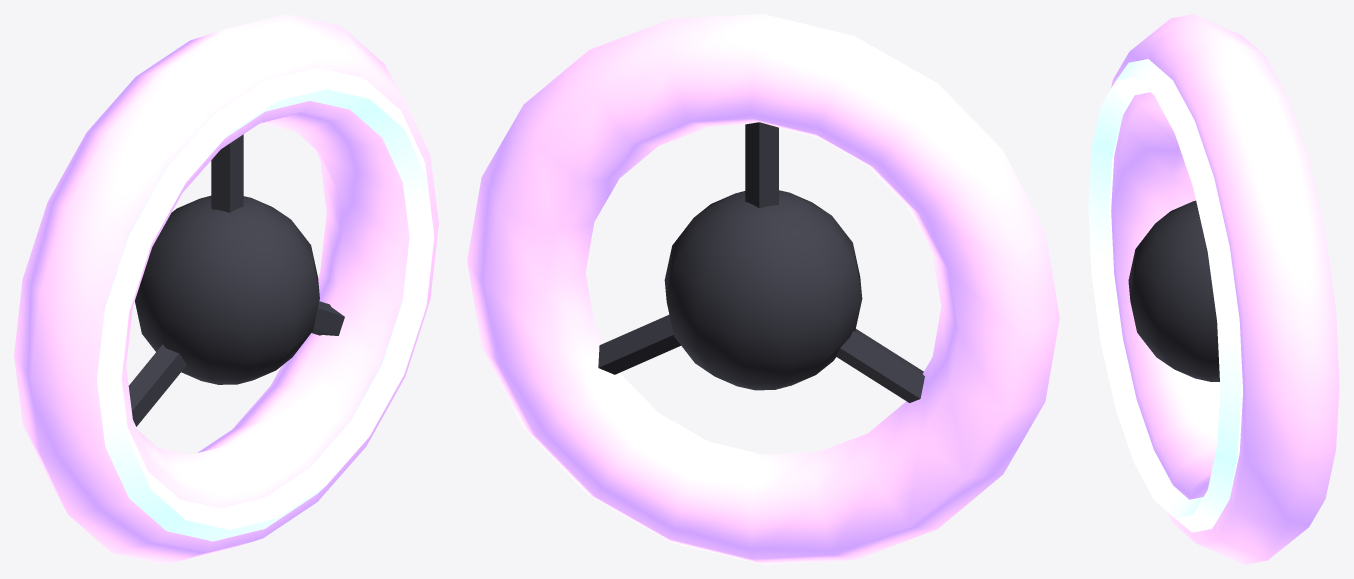
The model's file is drone_2.glb.
3 views of the same model, side by side, from view 1: azimuth 30°, elevation 25°; view 2: azimuth 150°, elevation 25°; view 3: azimuth 270°, elevation 25° (orthographic). The views are drawn at different scales.
Visible parts, largest first — view 1: drone_2; view 2: drone_2; view 3: drone_2.
Boxes of the visible parts, box(x1,y1,x2,y2) form: drone_2: box(14, 14, 438, 564); drone_2: box(467, 14, 1059, 564); drone_2: box(1088, 14, 1339, 564).
Bounding box in the file's own units: 0.5732 × 0.6 × 0.2701.
